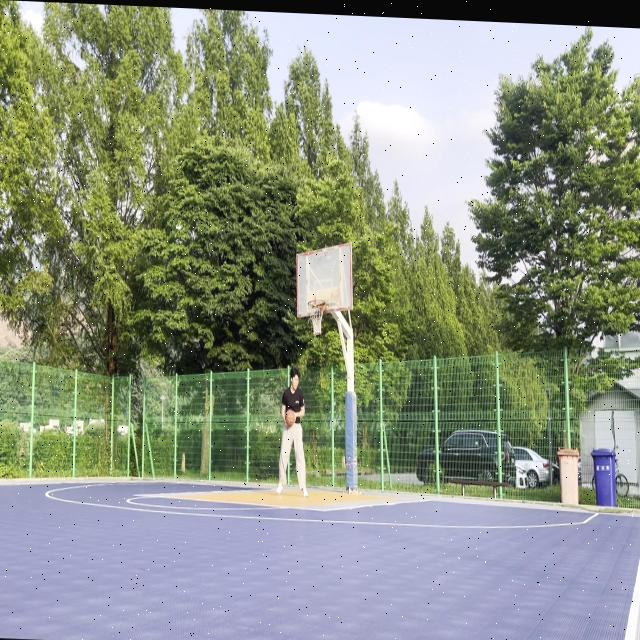basketball: (285, 408, 295, 427)
hoop: (307, 298, 326, 337)
